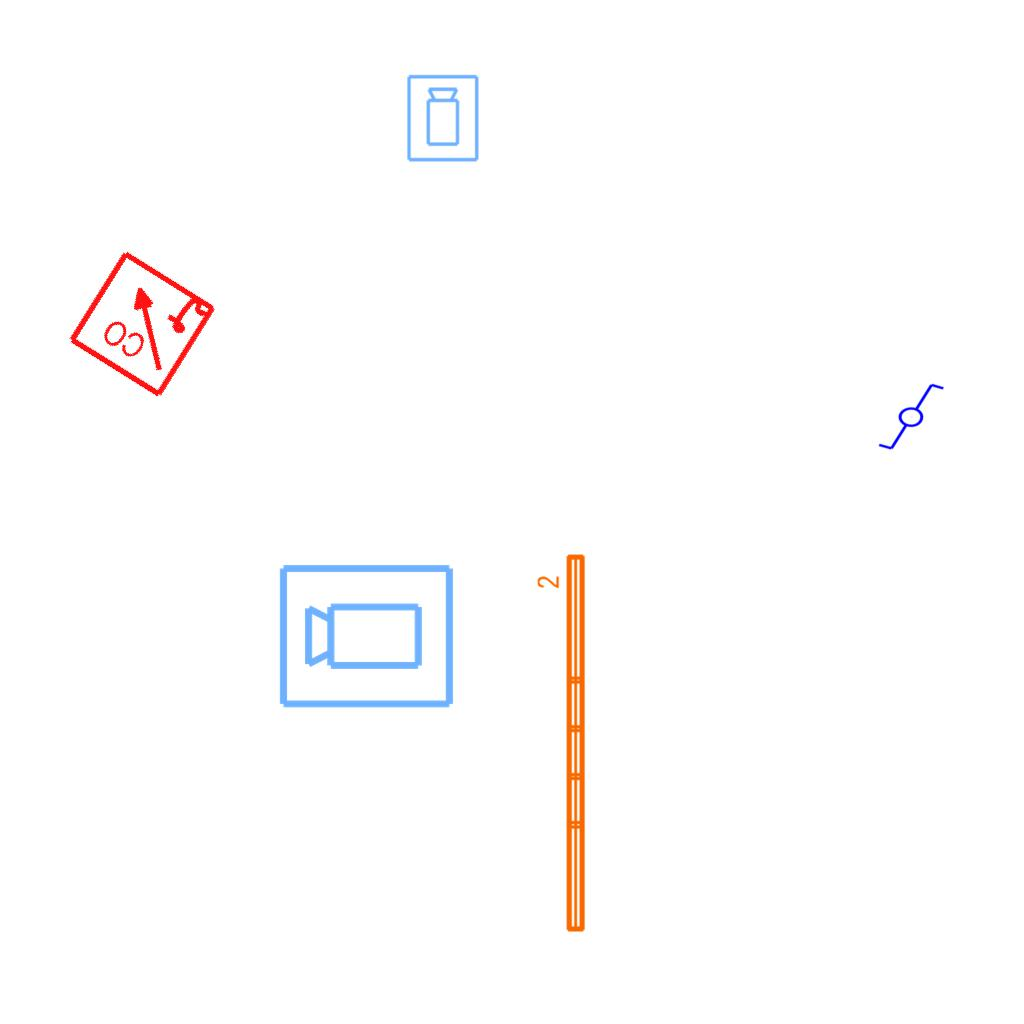Ambulanz_Pendelleuchte_LED: (535, 550, 591, 937)
KFO_Kamera_mit_Festobjektiv: (276, 558, 458, 712), (405, 73, 482, 164)
ROA_Rauchmelder_optisch_mit_Signalgeber_(Sockelsirene): (64, 244, 221, 401)
Wechselschalter: (868, 380, 946, 452)
